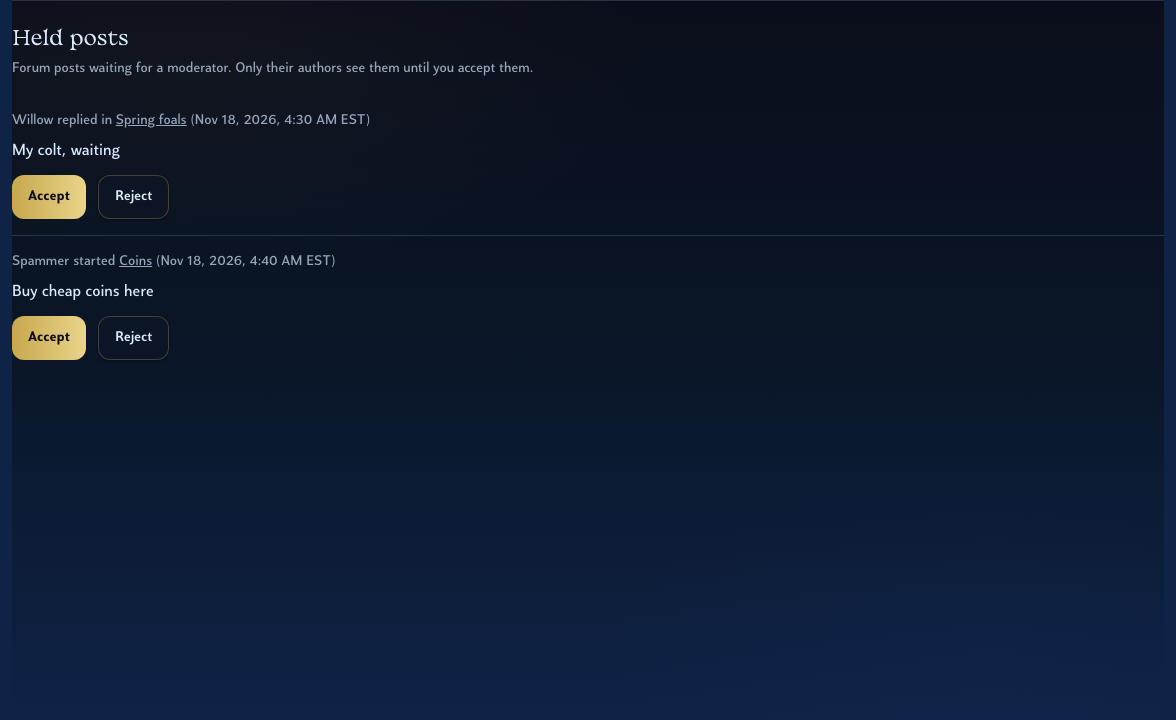
Test: StaffHeldPosts › rejecting needs a reason, names a thread removal, and sends the reason
The width and height of the screenshot is (1176, 720).
Click the button "Reject" below "Spammer" at coordinates (134, 338), box [98,316,169,360]
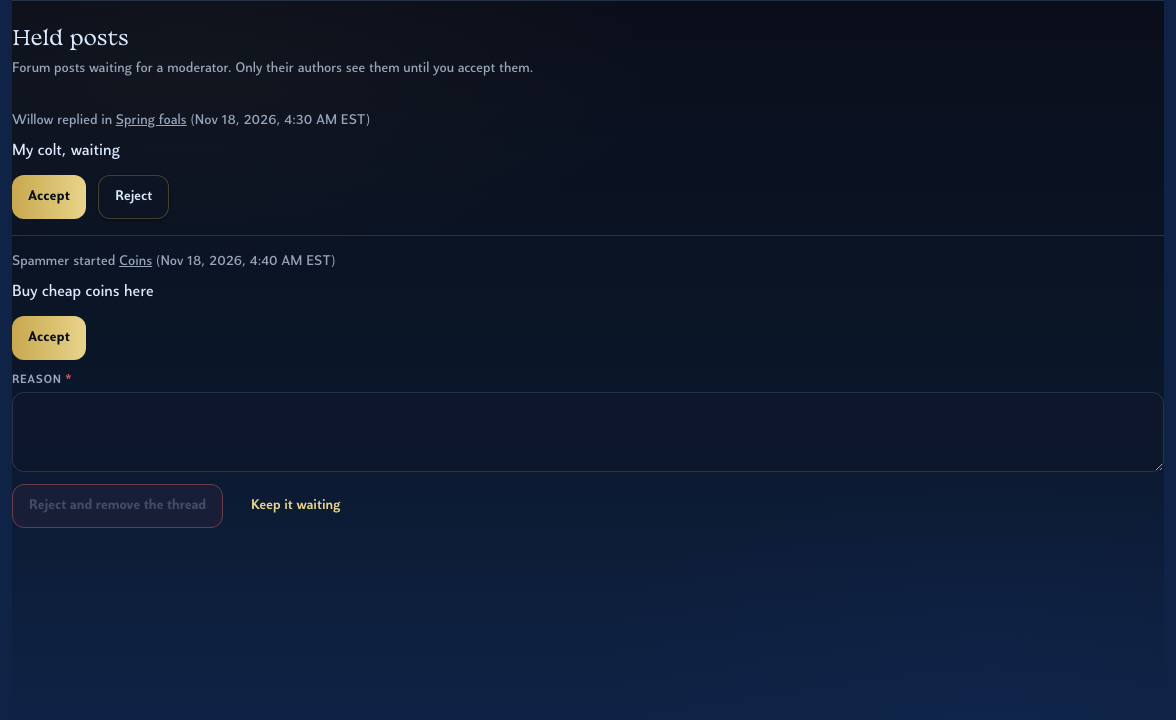
Result: the button "Reject and remove the thread" is disabled at [12,484,223,528]
Type "Spam" into the text box labelled "Reason *" at coordinates (588, 432), box [12,392,1164,472]
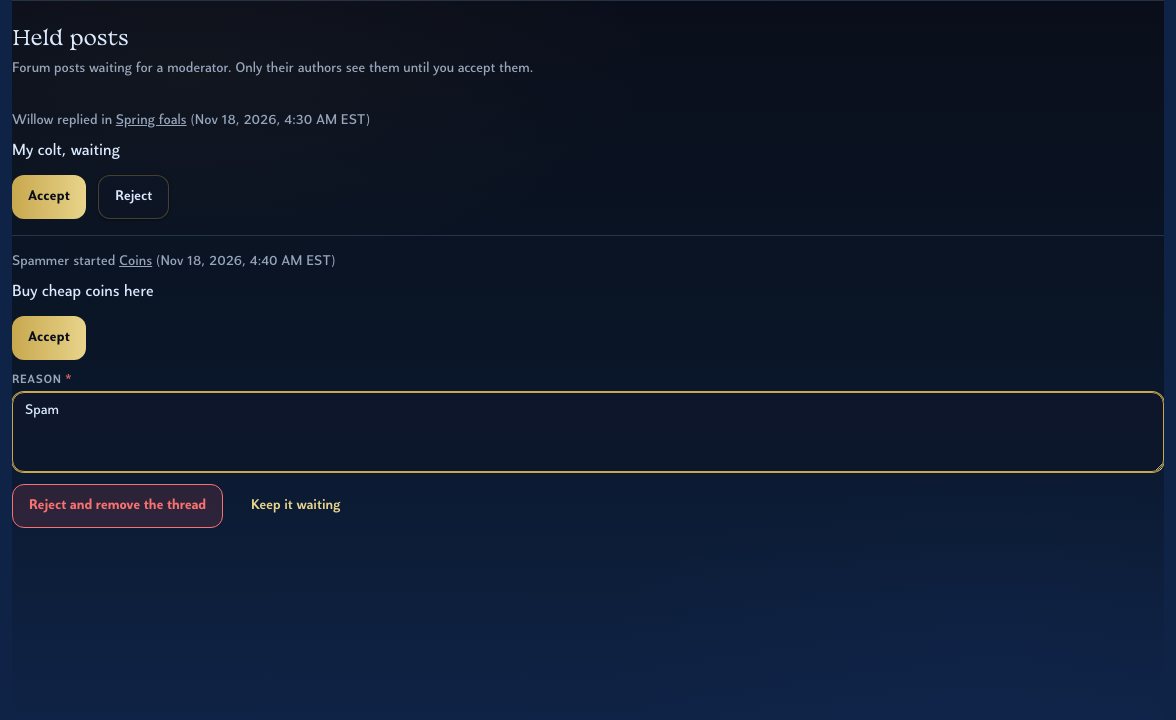
Click the button "Reject and remove the thread" at coordinates (118, 506), box [12,484,223,528]
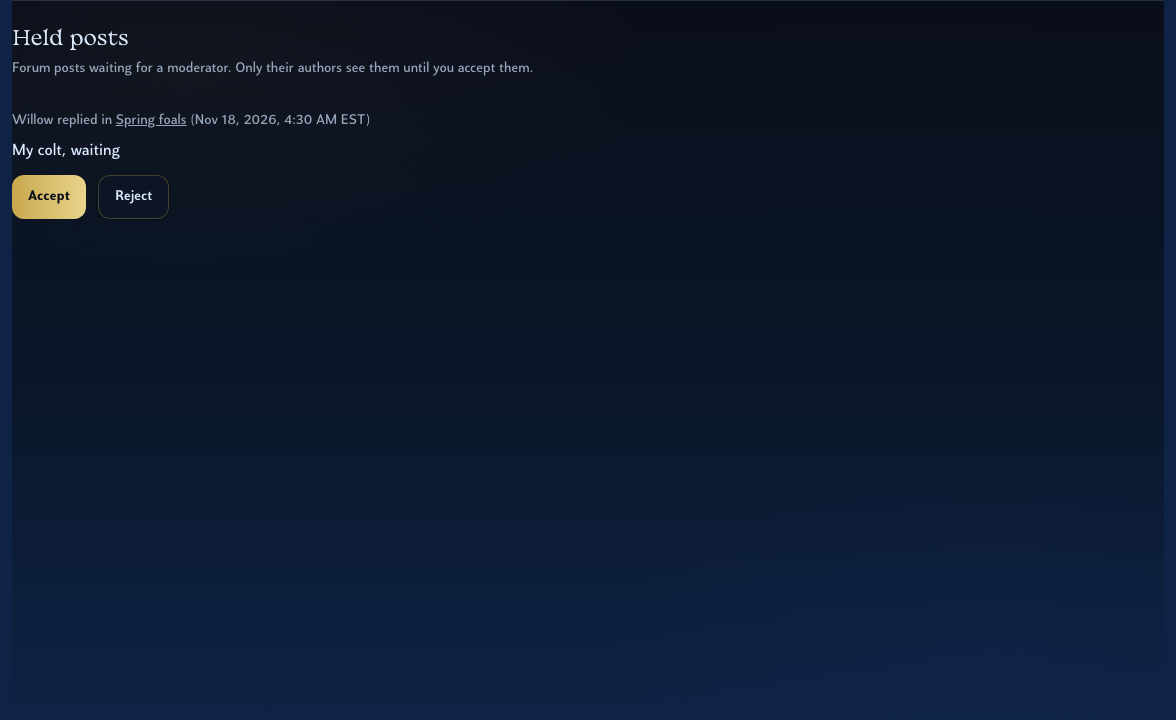
Result: the list item with test id "held-post-80" is gone
